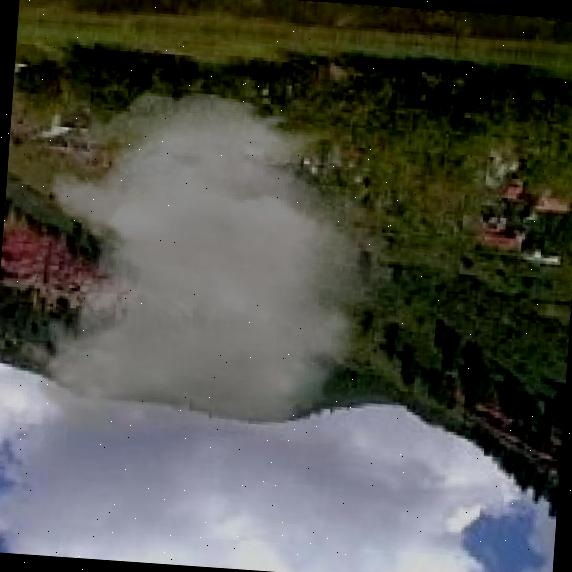smoke: (22, 83, 423, 460)
